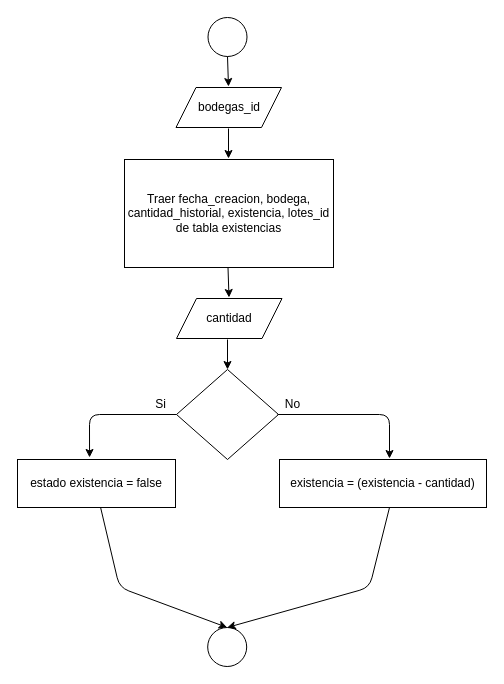
Image size: 504x684. Some labels were removed from this diagram. The centre of each missing label's shape, as x and y in pixels:
"cantidad <= 0" belongs at point 227,414.
"Fin" belongs at point 227,646.
"Inicio" belongs at point 227,36.
